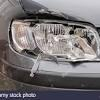Headlight-Damage: (0, 8, 99, 64)
